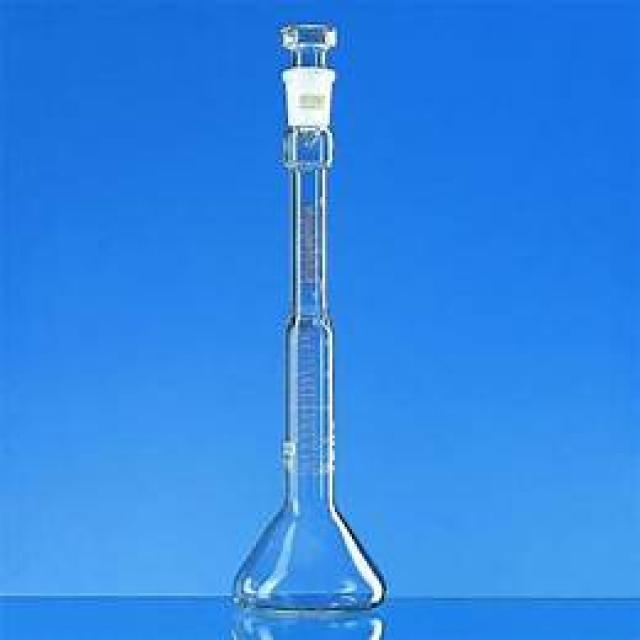Volumetric flask: (209, 12, 394, 618)
